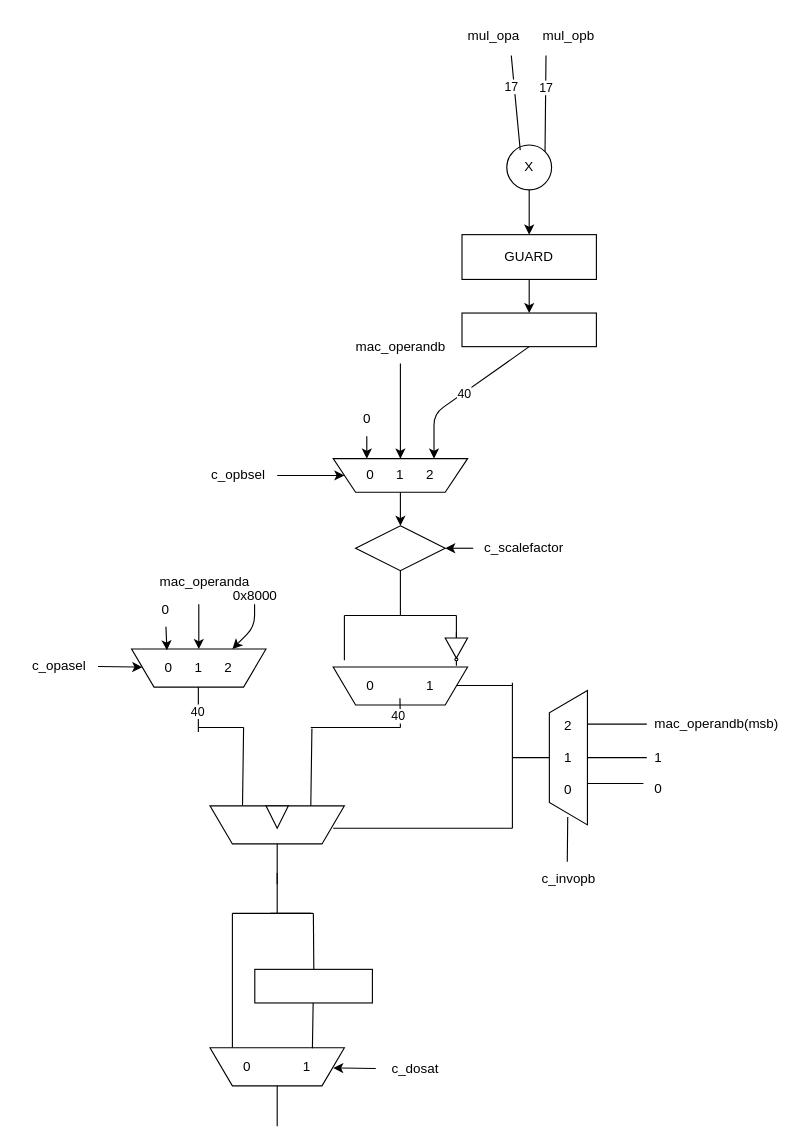
Image size: 808x1147. Some labels were removed from this diagram. Each missing label, with the centre of its shape:
"mul_guarded" belongs at point (528, 329).
"SAT" belongs at point (313, 985).
"Scale" belongs at point (399, 548).
